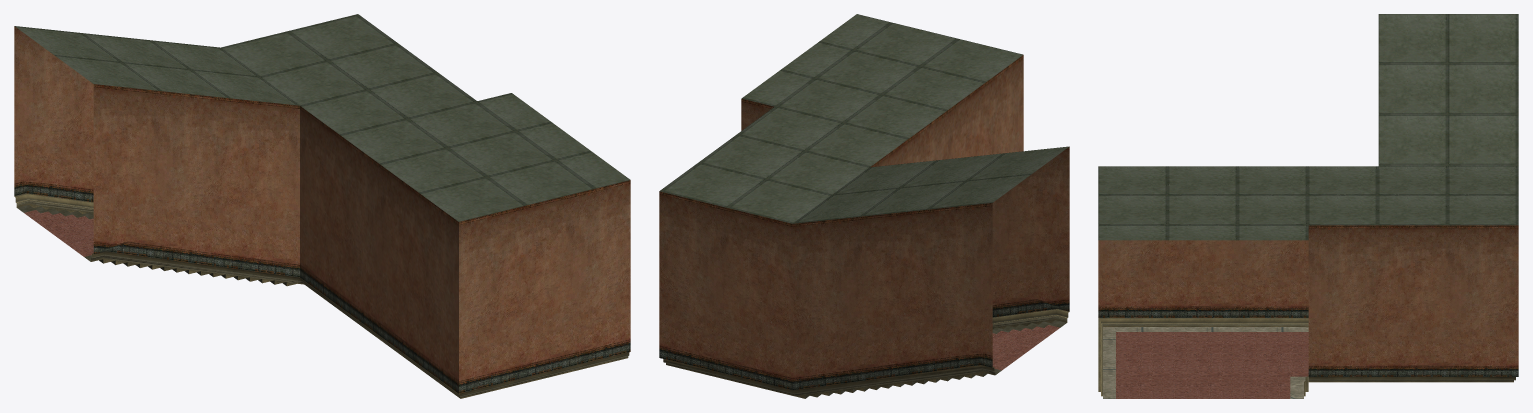
File: mun_corl_guild_theater_s01_r4_hallway3_mesh_r4.fbx
3 views of the same model, side by side, from view 1: azimuth 30°, elevation 25°; view 2: azimuth 150°, elevation 25°; view 3: azimuth 270°, elevation 25° (orthographic). The views are drawn at different scales.
Visible parts, largest first — view 1: mesh_node; view 2: mesh_node; view 3: mesh_node.
Boxes of the visible parts, x1,y1,x2,y2 form: mesh_node: (14, 14, 630, 398); mesh_node: (659, 14, 1069, 398); mesh_node: (1098, 14, 1518, 398).
Size of the model in its own units: 11 by 7 by 12.
